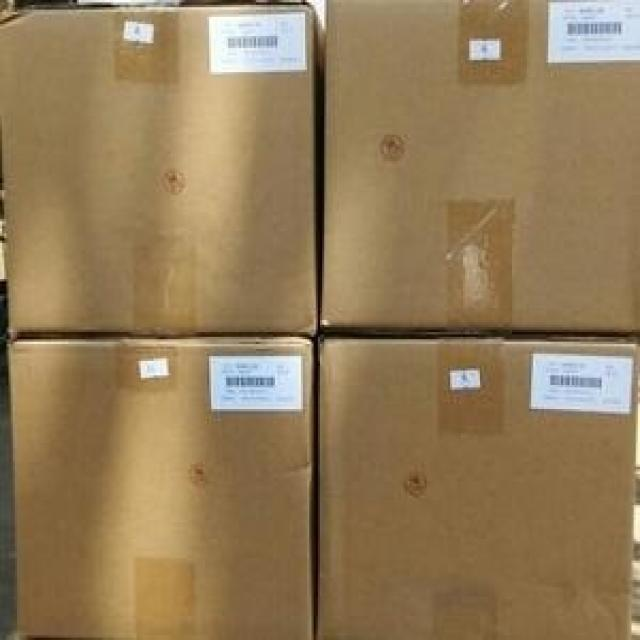box: (0, 1, 326, 338), (320, 1, 638, 332), (315, 332, 637, 637), (6, 338, 316, 637)
